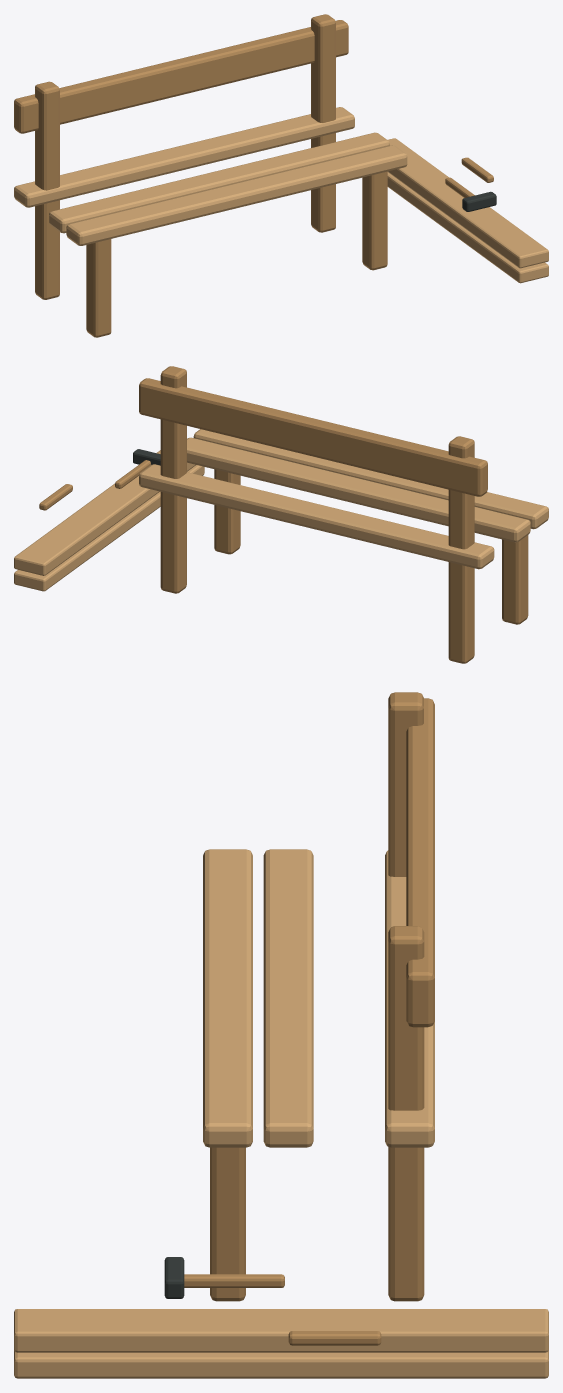
Rendered from SM_RelaxedNeighborHouse_UnfinishedBench.fbx.
3 views of the same model, one above another, from view 1: azimuth 30°, elevation 25°; view 2: azimuth 150°, elevation 25°; view 3: azimuth 270°, elevation 25° (orthographic). The views are drawn at different scales.
Parts seen in each view (by area): view 1: SM_RelaxedNeighborHouse_UnfinishedBench; view 2: SM_RelaxedNeighborHouse_UnfinishedBench; view 3: SM_RelaxedNeighborHouse_UnfinishedBench.
Boxes of the visible parts, bbox=[...] form: SM_RelaxedNeighborHouse_UnfinishedBench: bbox=[14, 14, 548, 337]; SM_RelaxedNeighborHouse_UnfinishedBench: bbox=[14, 366, 548, 663]; SM_RelaxedNeighborHouse_UnfinishedBench: bbox=[14, 692, 548, 1378].
Size of what is drawn, in the model's own units: 247 by 150 by 113.
